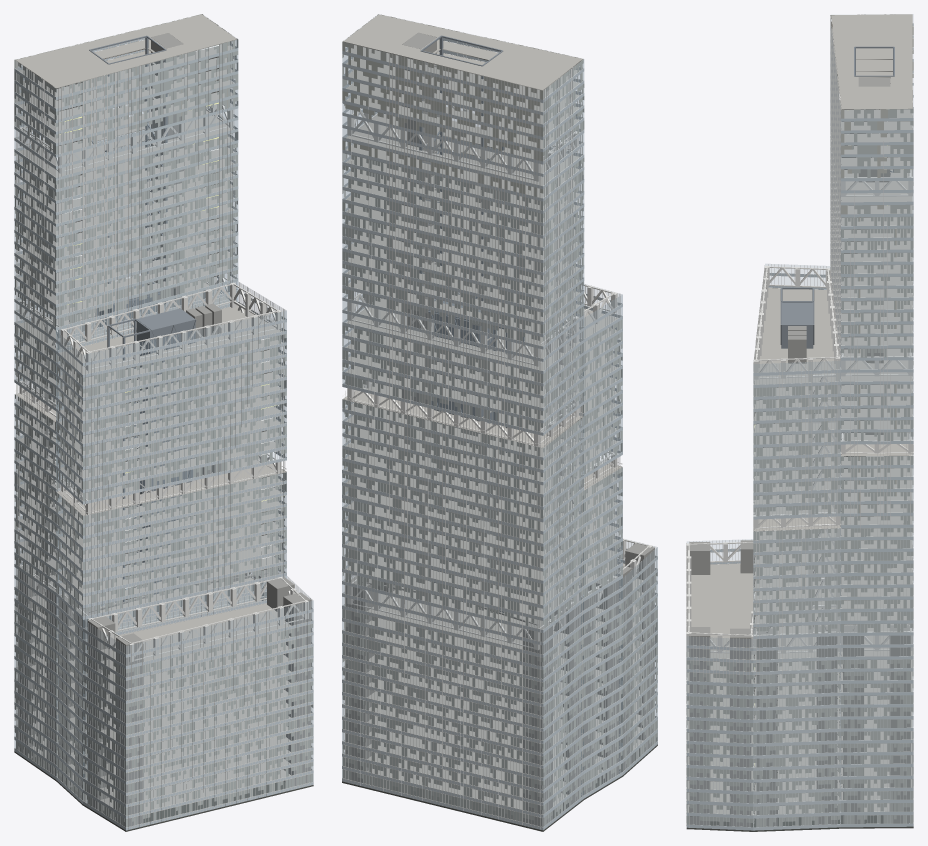
File: abeno_harukas.glb
3 views of the same model, side by side, from view 1: azimuth 30°, elevation 25°; view 2: azimuth 150°, elevation 25°; view 3: azimuth 270°, elevation 25° (orthographic). The views are drawn at different scales.
Parts seen in each view (by area): view 1: Web_Harukas_Body_Glass_Web, Web_Harukas_Facade_Frame, Harukas_Curtains, Web_Harukas_Spandrel_Blue, Web_Harukas_Truss_White, Web_Harukas_Core_Concrete, High_Floor_60, Web_Harukas_Core_Steel, Low_Floor_14, Middle_Floor_37, High_Floor_52, Middle_Floor_25 (+51 smaller); view 2: Web_Harukas_Body_Glass_Web, Web_Harukas_Facade_Frame, Harukas_Curtains, Web_Harukas_Spandrel_Blue, Web_Harukas_Core_Concrete, Web_Harukas_Truss_White, High_Floor_60, High_Floor_52, Web_Harukas_Core_Steel, High_Floor_14, High_Floor_37, High_Floor_31 (+49 smaller); view 3: Web_Harukas_Body_Glass_Web, Harukas_Curtains, Web_Harukas_Spandrel_Blue, Web_Harukas_Facade_Frame, Web_Harukas_Core_Concrete, Web_Harukas_Truss_White, High_Floor_60, Middle_Floor_37, Low_Floor_14, Web_Harukas_Core_Steel, High_Floor_37, High_Floor_52 (+35 smaller).
Boxes of the visible parts, x1,y1,x2,y2 form: Web_Harukas_Body_Glass_Web: [14, 39, 313, 826]; Web_Harukas_Facade_Frame: [14, 19, 313, 829]; Harukas_Curtains: [14, 14, 313, 827]; Web_Harukas_Spandrel_Blue: [14, 38, 313, 830]; Web_Harukas_Truss_White: [19, 99, 308, 662]; Web_Harukas_Core_Concrete: [18, 33, 311, 826]; High_Floor_60: [15, 14, 237, 88]; Web_Harukas_Core_Steel: [69, 35, 196, 601]; Low_Floor_14: [101, 603, 306, 665]; Middle_Floor_37: [59, 305, 283, 377]; High_Floor_52: [19, 110, 236, 177]; Middle_Floor_25: [57, 457, 285, 515]; Web_Harukas_Body_Glass_Web: [342, 44, 657, 826]; Web_Harukas_Facade_Frame: [342, 16, 657, 829]; Harukas_Curtains: [342, 14, 657, 825]; Web_Harukas_Spandrel_Blue: [342, 38, 657, 830]; Web_Harukas_Core_Concrete: [345, 32, 654, 826]; Web_Harukas_Truss_White: [347, 104, 652, 650]; High_Floor_60: [343, 14, 582, 90]; High_Floor_52: [345, 114, 579, 188]; Web_Harukas_Core_Steel: [419, 35, 524, 612]; High_Floor_14: [353, 587, 568, 656]; High_Floor_37: [346, 298, 580, 371]; High_Floor_31: [343, 382, 581, 448]; Web_Harukas_Body_Glass_Web: [687, 14, 913, 827]; Harukas_Curtains: [686, 14, 913, 826]; Web_Harukas_Spandrel_Blue: [686, 23, 913, 830]; Web_Harukas_Facade_Frame: [686, 14, 913, 827]; Web_Harukas_Core_Concrete: [689, 77, 910, 826]; Web_Harukas_Truss_White: [686, 88, 912, 654]; High_Floor_60: [831, 14, 912, 109]; Middle_Floor_37: [754, 288, 839, 387]; Low_Floor_14: [687, 563, 753, 663]; Web_Harukas_Core_Steel: [780, 46, 894, 348]; High_Floor_37: [841, 348, 912, 385]; High_Floor_52: [841, 169, 912, 205].
Size of the model in its own units: 90.12 by 301 by 86.09.
